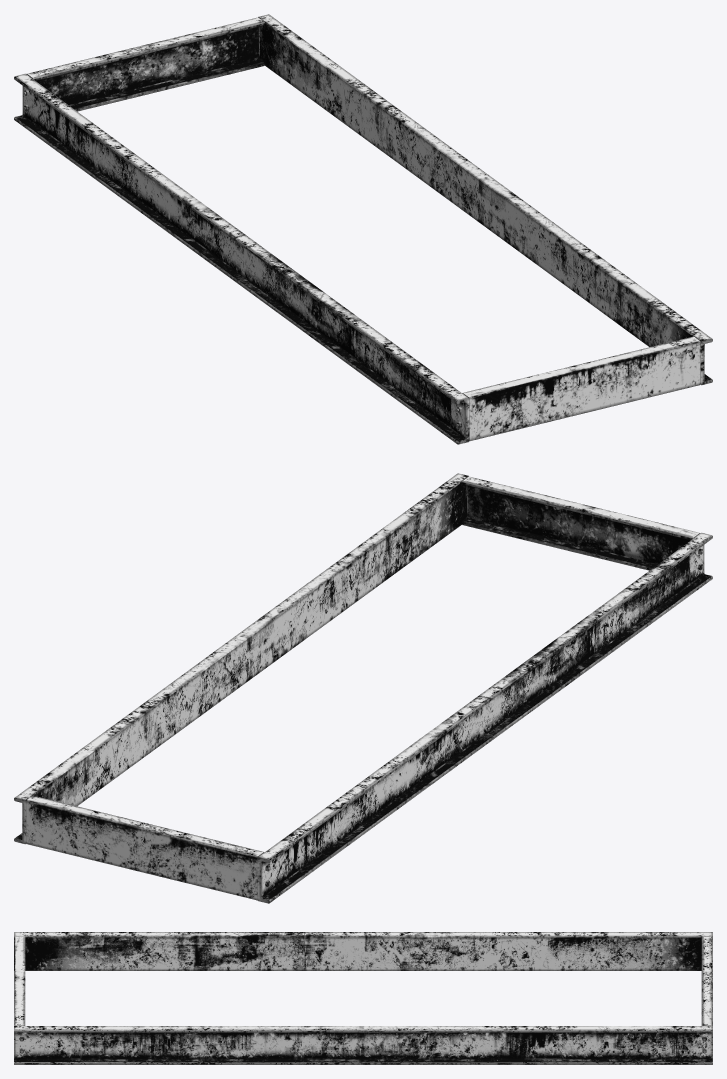
Rendered from sm_SteelCatwalks_01_03_300x100.fbx.
3 renders of one model, top to bottom at view 1: azimuth 30°, elevation 25°; view 2: azimuth 150°, elevation 25°; view 3: azimuth 270°, elevation 25°, orthographic. The views are drawn at different scales.
Parts seen in each view (by area): view 1: sm_SteelCatwalks_01_03_300x100_LOD0; view 2: sm_SteelCatwalks_01_03_300x100_LOD0; view 3: sm_SteelCatwalks_01_03_300x100_LOD0.
Part boxes in pixels (<box>): sm_SteelCatwalks_01_03_300x100_LOD0: <box>14,14,712,444</box>; sm_SteelCatwalks_01_03_300x100_LOD0: <box>14,473,712,903</box>; sm_SteelCatwalks_01_03_300x100_LOD0: <box>14,932,712,1064</box>.
Bounding box in the file's own units: 100 × 300 × 16.48.
